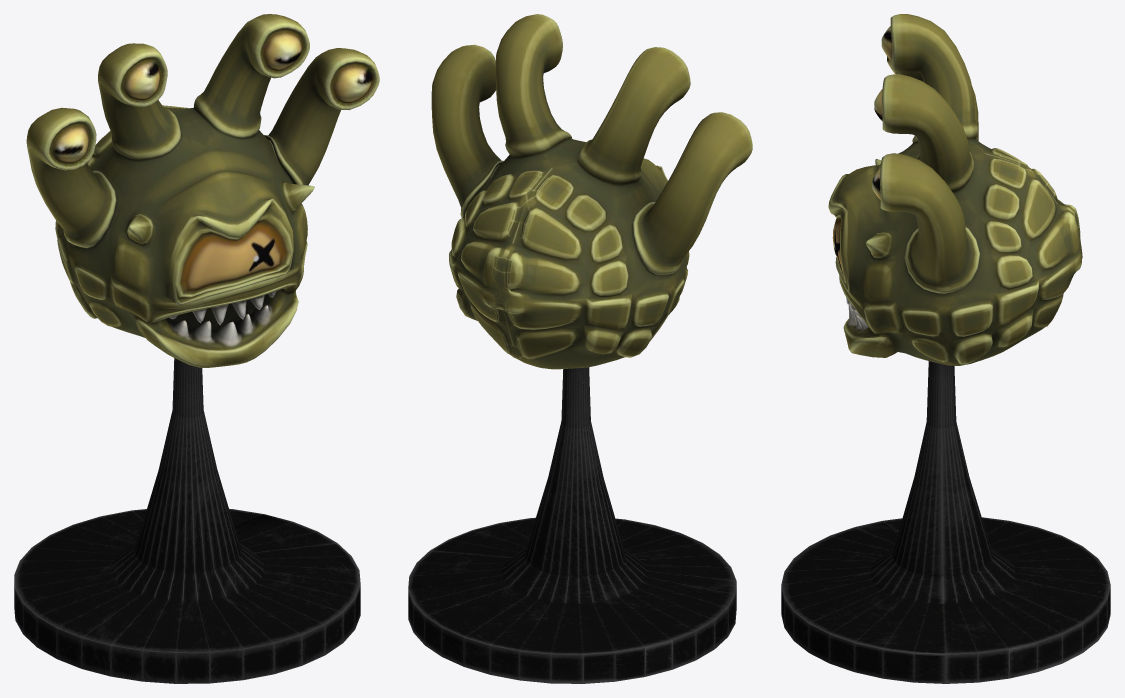
File: MZ4250 - Gazer.glb
The picture shows the model from 3 angles, left to right: view 1: azimuth 30°, elevation 25°; view 2: azimuth 150°, elevation 25°; view 3: azimuth 270°, elevation 25°; orthographic projection. The views are drawn at different scales.
Parts seen in each view (by area): view 1: gazer_low.001, base_low.001; view 2: gazer_low.001, base_low.001; view 3: gazer_low.001, base_low.001.
Part boxes in pixels (bbox=[...]): gazer_low.001: bbox=[26, 14, 379, 367]; base_low.001: bbox=[14, 358, 360, 683]; gazer_low.001: bbox=[431, 14, 752, 369]; base_low.001: bbox=[408, 367, 736, 683]; gazer_low.001: bbox=[828, 14, 1082, 365]; base_low.001: bbox=[781, 361, 1110, 683].
Bounding box in the file's own units: 2.64 × 4.55 × 2.4.
1 material, 1 textured.
